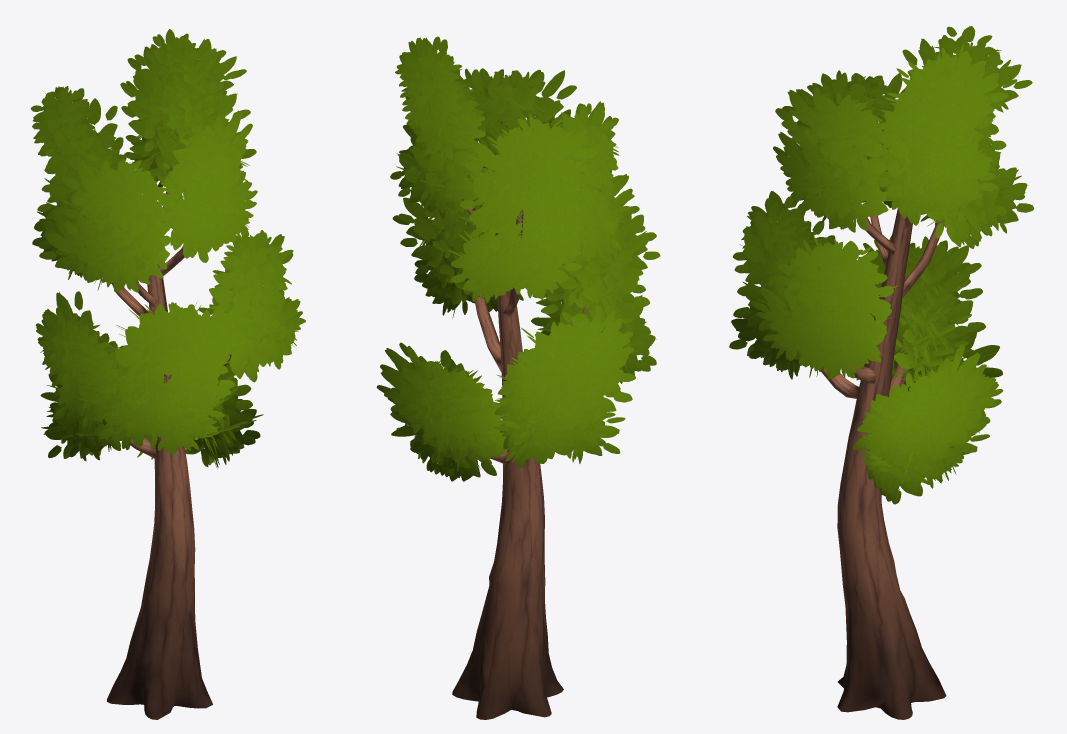
File: qn-CommonTree_3.glb
3 views of the same model, side by side, from view 1: azimuth 30°, elevation 25°; view 2: azimuth 150°, elevation 25°; view 3: azimuth 270°, elevation 25° (orthographic). The views are drawn at different scales.
Parts seen in each view (by area): view 1: CommonTree_3; view 2: CommonTree_3; view 3: CommonTree_3.
Part boxes in pixels (x1,y1,x2,y2): CommonTree_3: (30, 29, 305, 719); CommonTree_3: (376, 36, 660, 719); CommonTree_3: (729, 26, 1033, 719).
Bounding box in the file's own units: 4.06 × 9.43 × 4.24.
2 materials, 2 textured.
